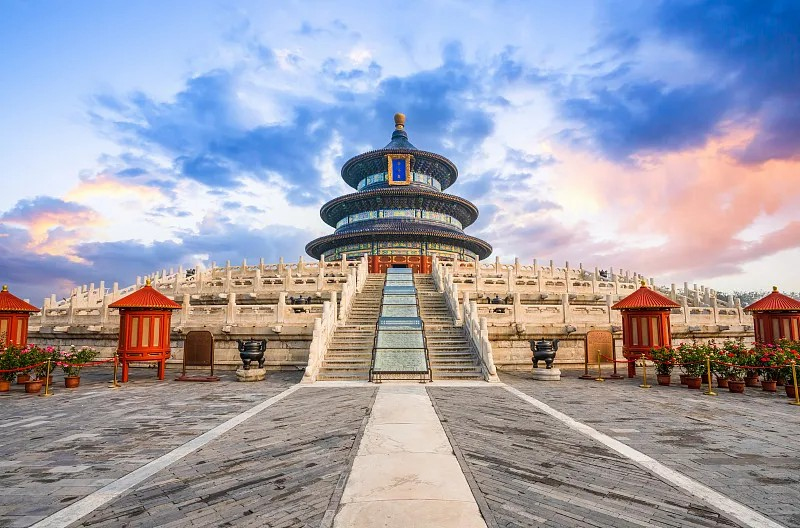Heaven: (304, 112, 493, 271)
